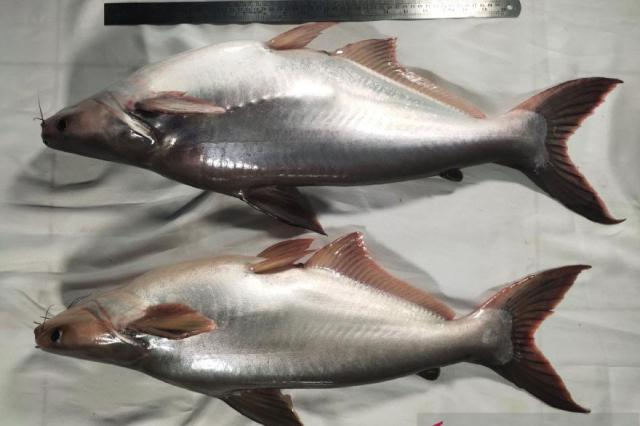Mulut: (16, 96, 96, 172), (16, 308, 72, 344)
Sirip Anal: (330, 29, 500, 127), (294, 222, 460, 322)
Sirip Dada: (109, 284, 234, 362), (123, 83, 231, 135)
Sirip Ekor: (466, 247, 614, 423), (491, 69, 639, 233)
Sirip Perut: (243, 228, 325, 290), (250, 7, 334, 65)
Sirip Punggung: (218, 165, 336, 241), (209, 375, 318, 426)
